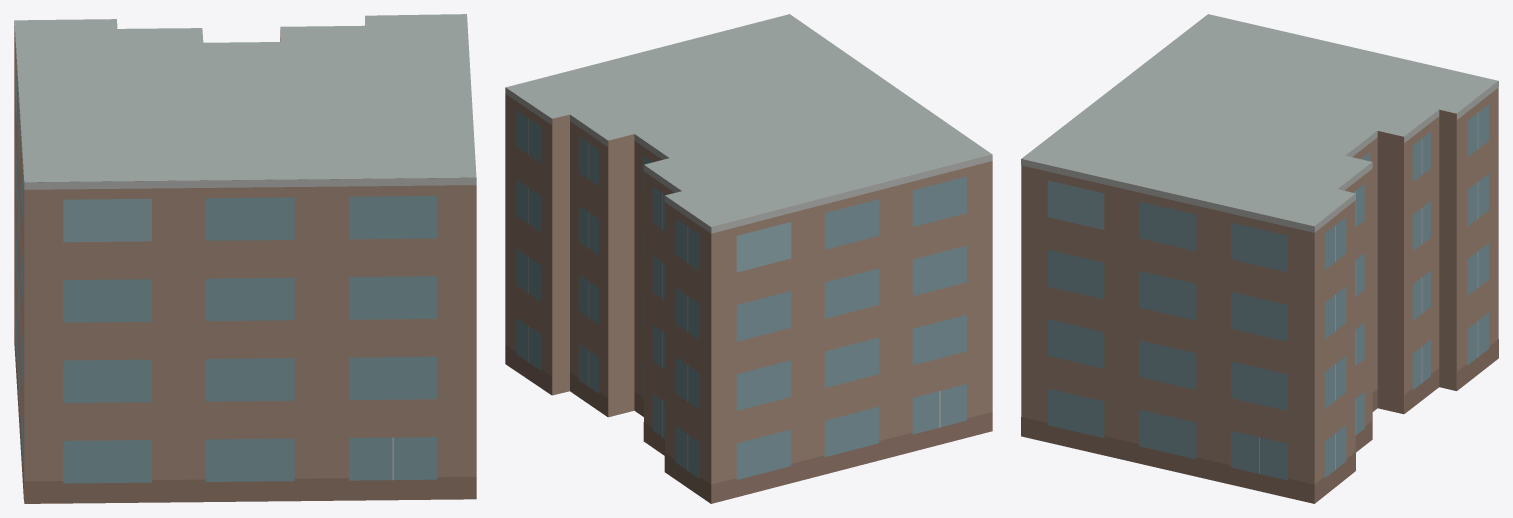
The model's file is survey-upis-32888357.glb.
The picture shows the model from 3 angles, left to right: view 1: azimuth 30°, elevation 25°; view 2: azimuth 150°, elevation 25°; view 3: azimuth 270°, elevation 25°; orthographic projection. The views are drawn at different scales.
Visible parts, largest first — view 1: survey-upis-32888357.tmp; view 2: survey-upis-32888357.tmp; view 3: survey-upis-32888357.tmp.
Part boxes in pixels (x1,y1,x2,y2): survey-upis-32888357.tmp: (14,14,476,503); survey-upis-32888357.tmp: (505,14,992,503); survey-upis-32888357.tmp: (1021,14,1498,503).
Bounding box in the file's own units: 17.08 × 10.4 × 16.23.
